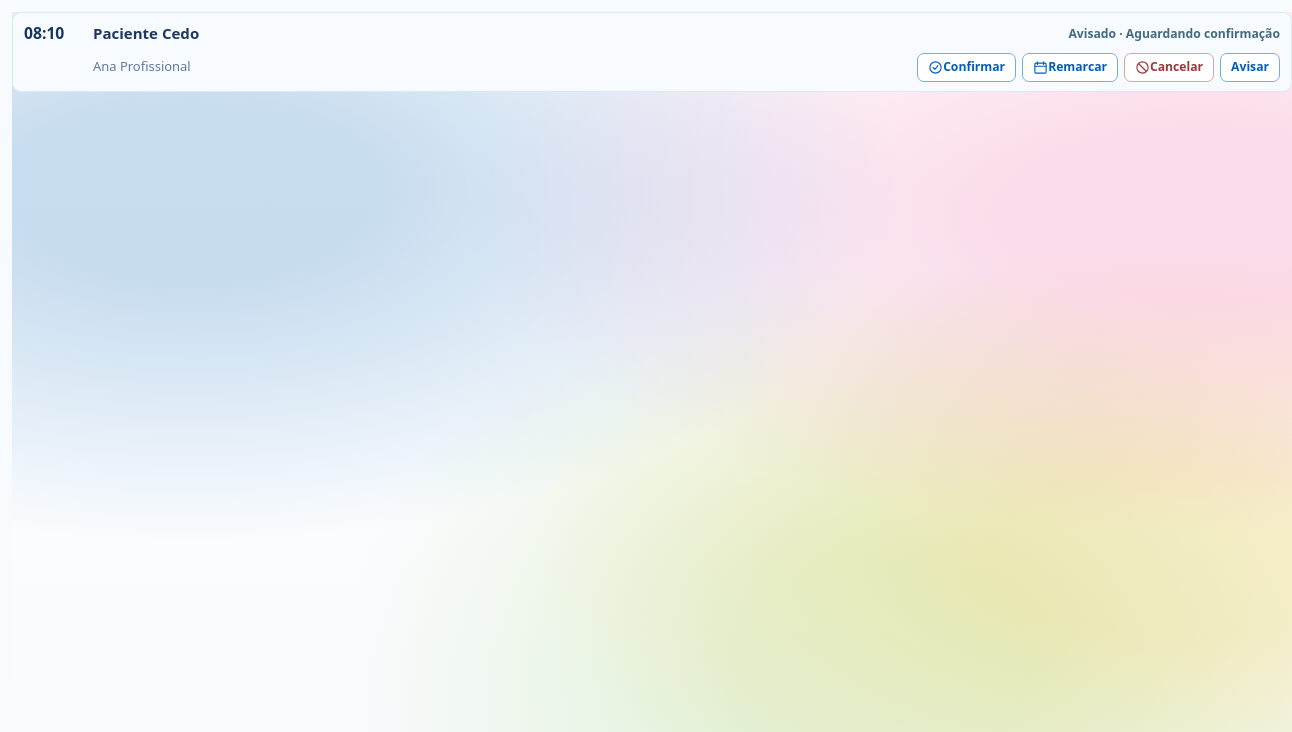
Home administrativa — agenda compartilhada por horário › permite confirmar manualmente apenas enquanto falta resposta e não grava presença
The width and height of the screenshot is (1292, 732).
Expected: the text "Avisado · Aguardando confirmação" is shown, [1068,25,1280,43]
Click the button with aria-label "Confirmar manualmente Paciente Cedo" at (967, 67), box [917,52,1016,82]
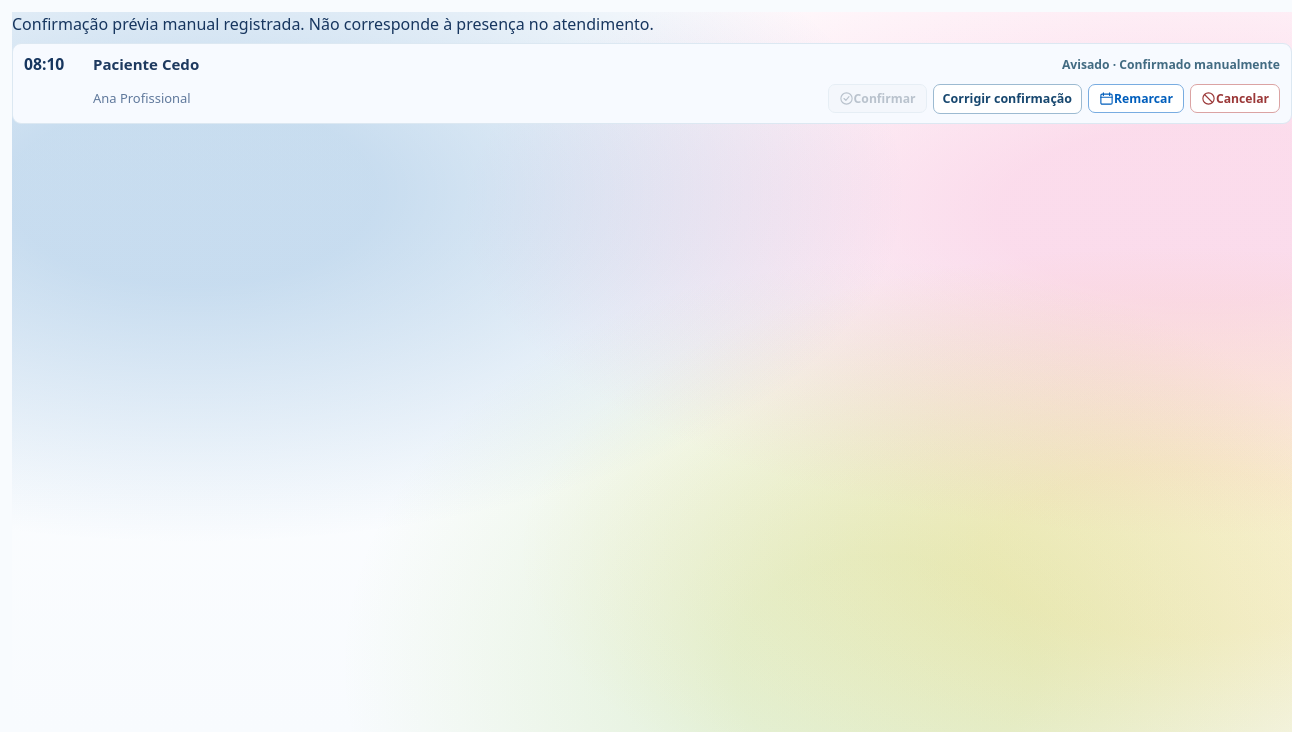
Now the text "Avisado · Confirmado manualmente" is shown, box [1062,56,1280,74]
Now the button with aria-label "Confirmar manualmente Paciente Cedo" is disabled, box [828,84,927,113]
